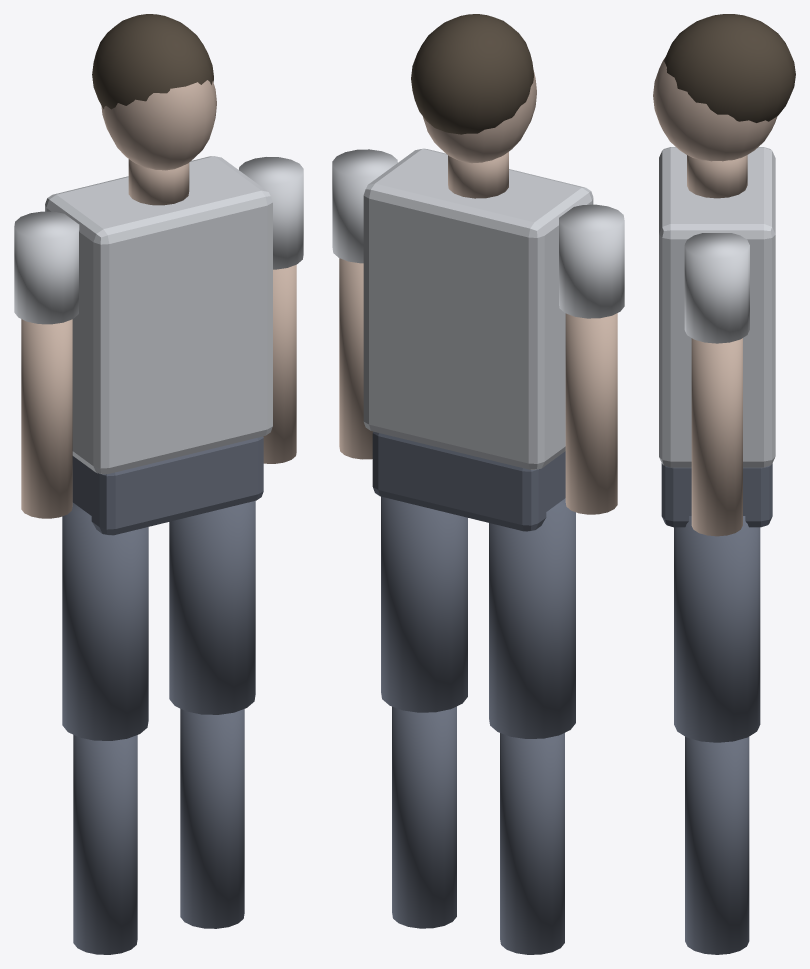
File: victim_adult.glb
3 views of the same model, side by side, from view 1: azimuth 30°, elevation 25°; view 2: azimuth 150°, elevation 25°; view 3: azimuth 270°, elevation 25° (orthographic).
Visible parts, largest first — view 1: Victim_ThinShirtTorso, Victim_LegUpper_L, Victim_LegUpper_R, Victim_LegLower_R, Victim_LegLower_L, Victim_Pelvis, Victim_BareArm_L, Victim_Hair, Victim_Head, Victim_ShirtSleeve_L, Victim_BareArm_R, Victim_ShirtSleeve_R (+1 smaller); view 2: Victim_ThinShirtTorso, Victim_LegUpper_L, Victim_LegUpper_R, Victim_LegLower_R, Victim_LegLower_L, Victim_Pelvis, Victim_Hair, Victim_BareArm_L, Victim_ShirtSleeve_L, Victim_BareArm_R, Victim_ShirtSleeve_R, Victim_Head (+1 smaller); view 3: Victim_ThinShirtTorso, Victim_LegUpper_R, Victim_LegLower_R, Victim_Hair, Victim_BareArm_R, Victim_ShirtSleeve_R, Victim_Head, Victim_Pelvis, Victim_Neck.
Boxes of the visible parts, <box> form: Victim_ThinShirtTorso: <box>45,156,272,474</box>; Victim_LegUpper_L: <box>62,502,148,740</box>; Victim_LegUpper_R: <box>169,501,255,714</box>; Victim_LegLower_R: <box>180,709,244,928</box>; Victim_LegLower_L: <box>73,735,137,954</box>; Victim_Pelvis: <box>72,436,263,535</box>; Victim_BareArm_L: <box>21,319,72,518</box>; Victim_Hair: <box>92,14,213,109</box>; Victim_Head: <box>101,80,216,170</box>; Victim_ShirtSleeve_L: <box>14,211,79,324</box>; Victim_BareArm_R: <box>263,264,296,463</box>; Victim_ShirtSleeve_R: <box>239,157,303,269</box>; Victim_ThinShirtTorso: <box>363,148,593,469</box>; Victim_LegUpper_L: <box>489,498,575,738</box>; Victim_LegUpper_R: <box>381,496,467,712</box>; Victim_LegLower_R: <box>392,706,456,928</box>; Victim_LegLower_L: <box>500,733,564,954</box>; Victim_Pelvis: <box>372,431,565,531</box>; Victim_Hair: <box>411,14,533,134</box>; Victim_BareArm_L: <box>565,313,617,514</box>; Victim_ShirtSleeve_L: <box>559,204,624,318</box>; Victim_BareArm_R: <box>339,258,372,459</box>; Victim_ShirtSleeve_R: <box>332,149,397,263</box>; Victim_Head: <box>423,69,536,163</box>; Victim_ThinShirtTorso: <box>659,147,775,467</box>; Victim_LegUpper_R: <box>674,516,760,742</box>; Victim_LegLower_R: <box>685,736,749,954</box>; Victim_Hair: <box>664,14,795,122</box>; Victim_BareArm_R: <box>691,338,742,536</box>; Victim_ShirtSleeve_R: <box>684,233,749,343</box>; Victim_Head: <box>653,57,776,161</box>; Victim_Pelvis: <box>661,463,772,527</box>; Victim_Neck: <box>687,155,747,198</box>.
Size of the model in its own units: 0.552 by 1.7 by 0.245.
